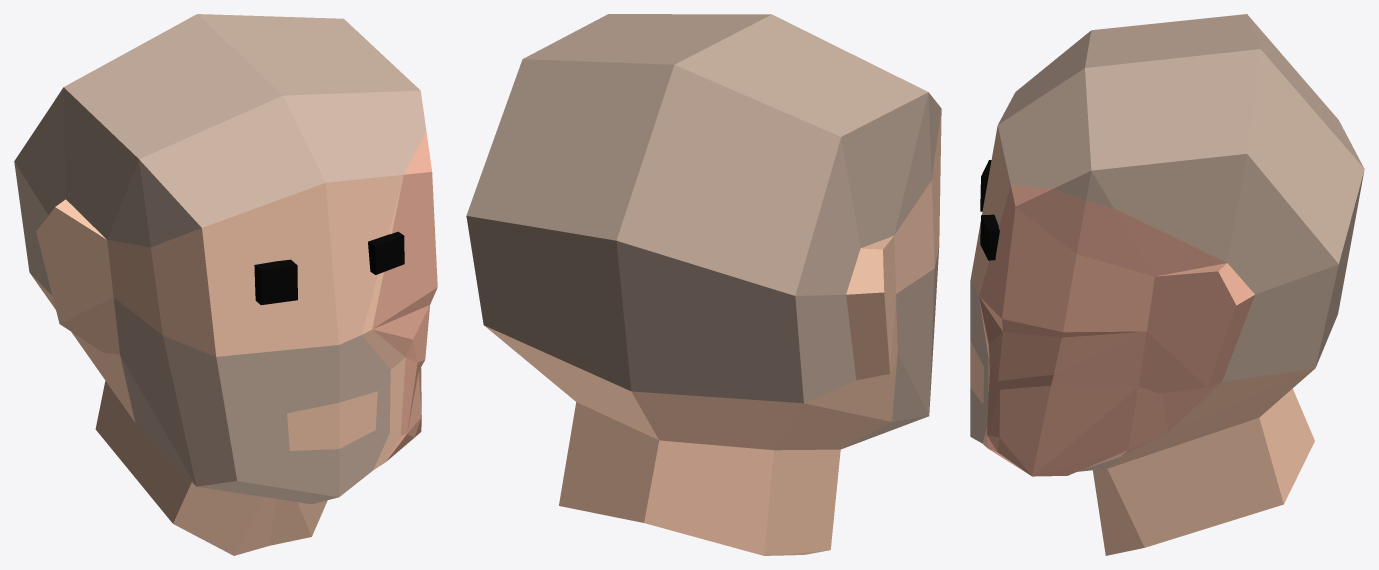
File: Chr_Head_Male_07_Static.fbx
The picture shows the model from 3 angles, left to right: view 1: azimuth 30°, elevation 25°; view 2: azimuth 150°, elevation 25°; view 3: azimuth 270°, elevation 25°; orthographic projection. The views are drawn at different scales.
Visible parts, largest first — view 1: Chr_Head_Male_07_Static; view 2: Chr_Head_Male_07_Static; view 3: Chr_Head_Male_07_Static.
Boxes of the visible parts, left/top/right/bottom form: Chr_Head_Male_07_Static: left=14, top=14, right=437, bottom=555; Chr_Head_Male_07_Static: left=466, top=14, right=941, bottom=555; Chr_Head_Male_07_Static: left=970, top=14, right=1364, bottom=555.
Bounding box in the file's own units: 0.2661 × 0.3523 × 0.2574.
